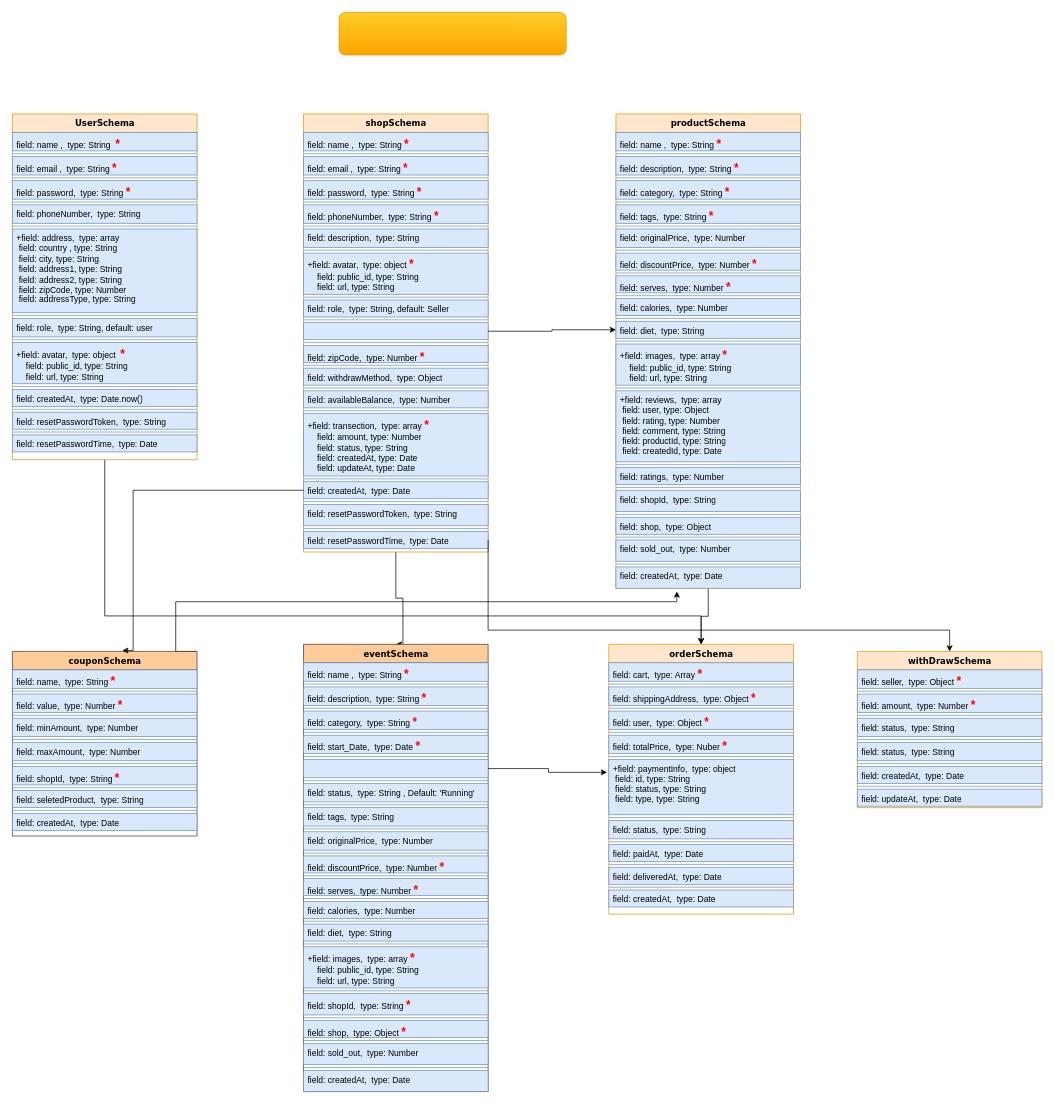
Image size: 1054x1106. Some labels were removed from this diagram. Each missing label, with the centre of its shape:
ER Schema: the point at 452,33
field: address, type: String *: the point at 395,331
field: finish_Date, type: Date *: the point at 395,768
